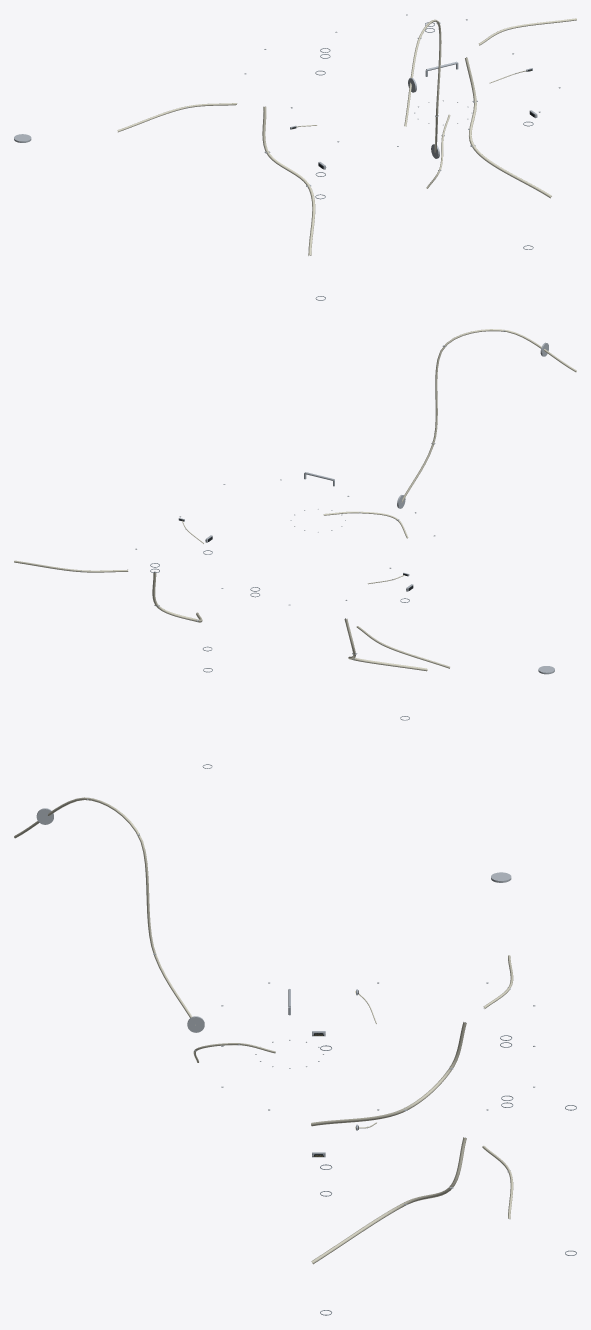
File: insight-detail.glb
3 views of the same model, one above another, from view 1: azimuth 30°, elevation 25°; view 2: azimuth 150°, elevation 25°; view 3: azimuth 270°, elevation 25° (orthographic). The views are drawn at different scales.
Parts seen in each view (by area): view 1: DETAIL_AVIONICS_White_cable_sleeve, DETAIL_ARM_White_cable_sleeve, DETAIL_SOLAR_White_cable_sleeve; view 2: DETAIL_ARM_White_cable_sleeve, DETAIL_AVIONICS_White_cable_sleeve, DETAIL_SOLAR_White_cable_sleeve; view 3: DETAIL_AVIONICS_White_cable_sleeve, DETAIL_ARM_White_cable_sleeve.
Boxes of the visible parts, x1=… form: DETAIL_AVIONICS_White_cable_sleeve: x1=262, y1=57, x2=551, y2=255; DETAIL_ARM_White_cable_sleeve: x1=404, y1=19, x2=441, y2=152; DETAIL_SOLAR_White_cable_sleeve: x1=117, y1=18, x2=576, y2=132; DETAIL_ARM_White_cable_sleeve: x1=401, y1=329, x2=576, y2=502; DETAIL_AVIONICS_White_cable_sleeve: x1=152, y1=572, x2=427, y2=671; DETAIL_SOLAR_White_cable_sleeve: x1=14, y1=560, x2=450, y2=668; DETAIL_AVIONICS_White_cable_sleeve: x1=311, y1=1022, x2=466, y2=1264; DETAIL_ARM_White_cable_sleeve: x1=14, y1=797, x2=195, y2=1025.
Size of the model in its own units: 3.35 by 1.92 by 2.46.
